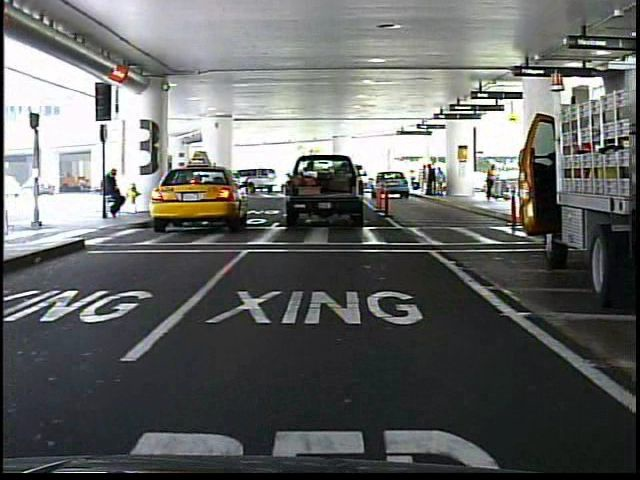person: (103, 164, 129, 223), (484, 159, 504, 206)
